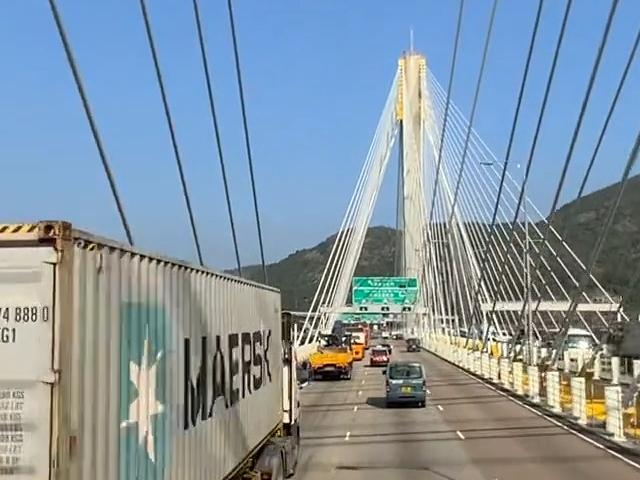truck: (0, 225, 301, 480), (306, 323, 368, 385)
van: (377, 353, 435, 412)
